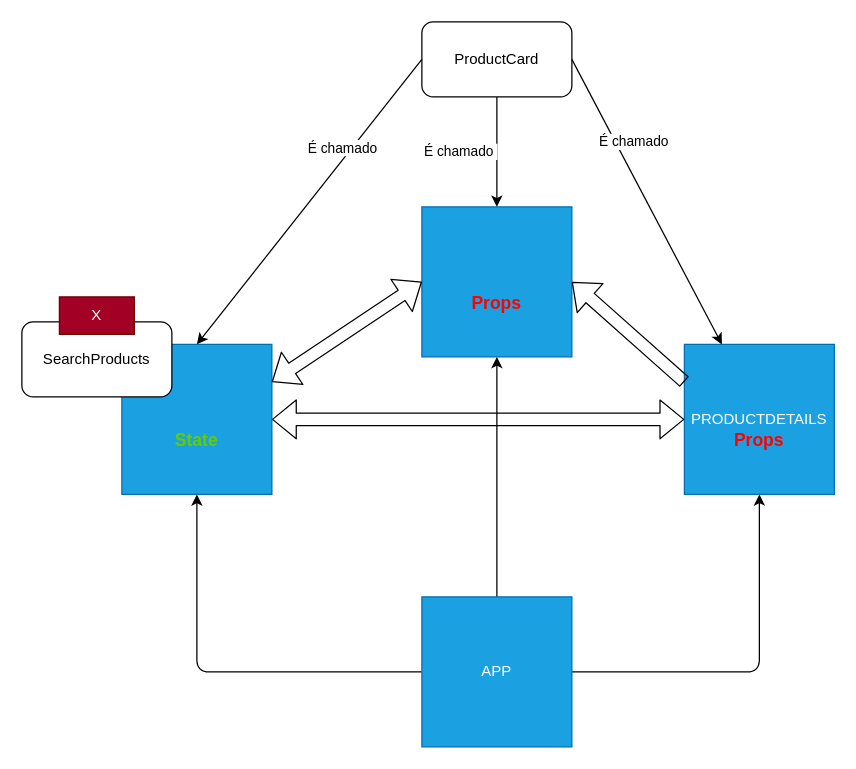
The diagram is 856 pixels wide and 769 high, and some of its shapes have lost their labels. The shapes that lost their labels are listed below. From the top down, each one's box as (x1, y1, x2, y2) in pixels, then its label:
(421, 206, 572, 357): CART
(121, 343, 272, 494): HOME
